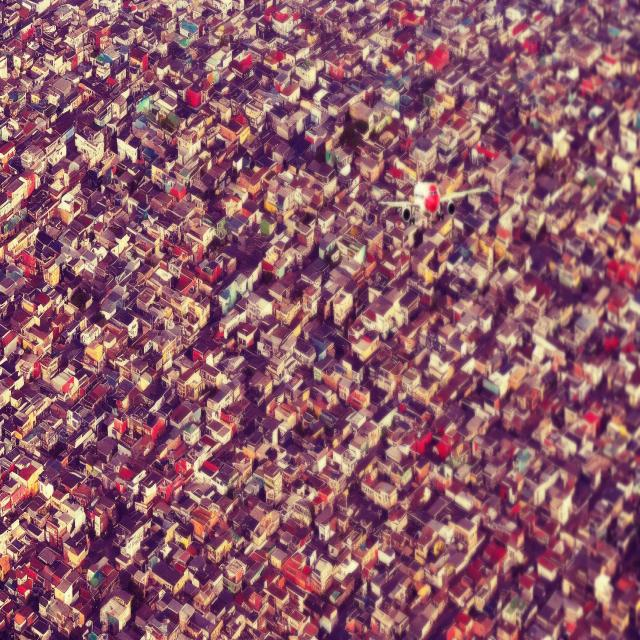airplane: (378, 147, 490, 225)
